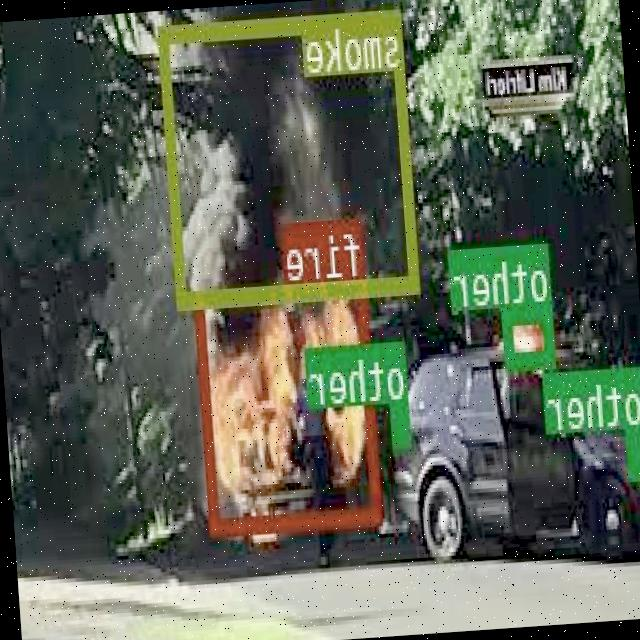fire: (195, 278, 384, 530)
smoke: (158, 7, 420, 304)
